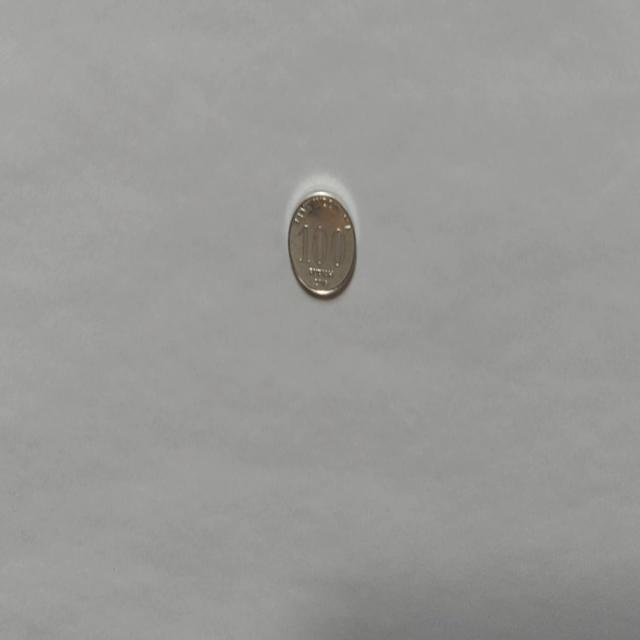seratus rupiah: (287, 188, 356, 300)
